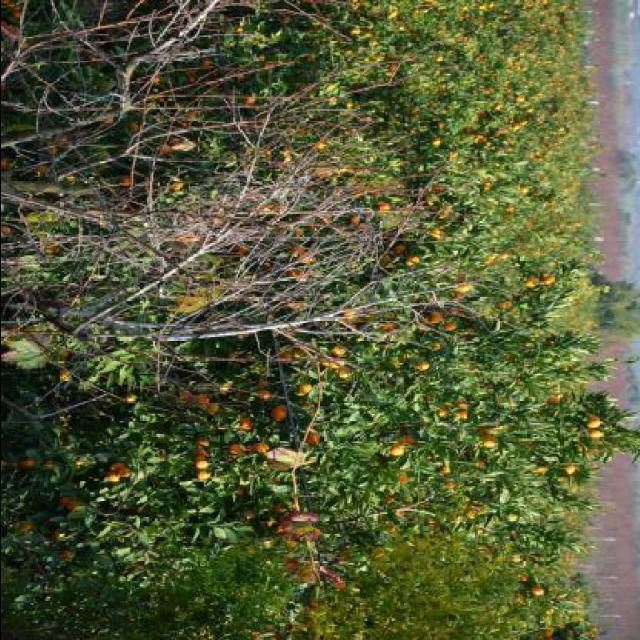Orange: (388, 440, 410, 458)
